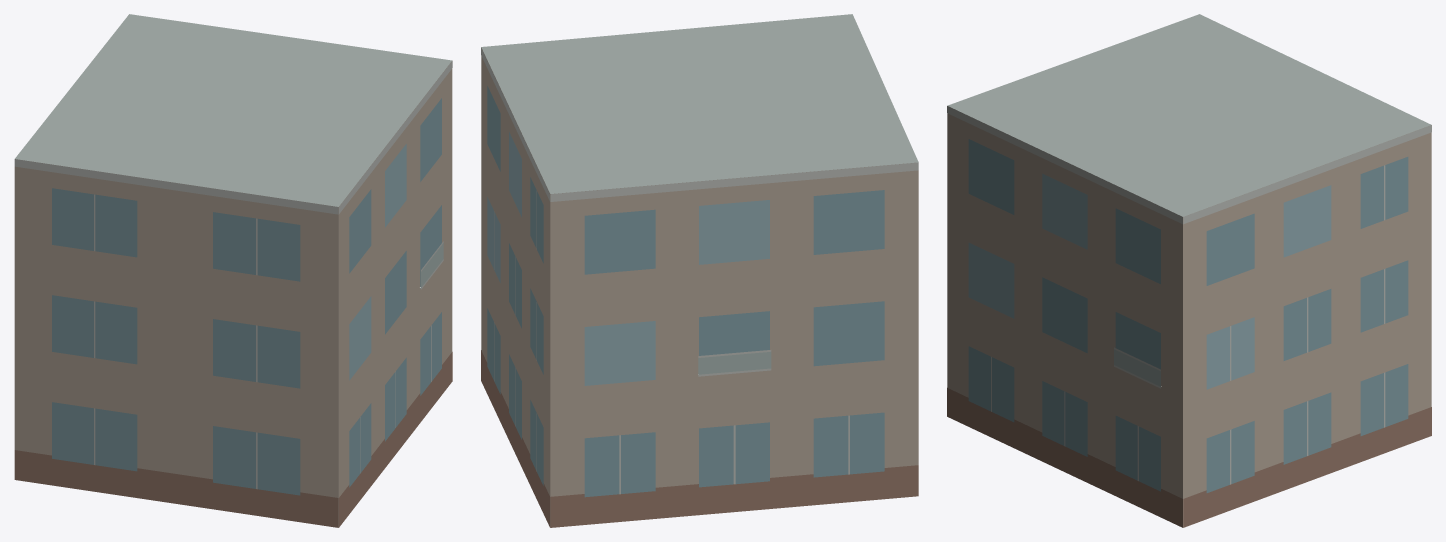
Rendered from survey-upis-32835192.glb.
3 views of the same model, side by side, from view 1: azimuth 30°, elevation 25°; view 2: azimuth 150°, elevation 25°; view 3: azimuth 270°, elevation 25° (orthographic). The views are drawn at different scales.
Parts seen in each view (by area): view 1: survey-upis-32835192.tmp; view 2: survey-upis-32835192.tmp; view 3: survey-upis-32835192.tmp.
Boxes of the visible parts, box(x1,y1,x2,y2) form: survey-upis-32835192.tmp: box(14, 14, 452, 527); survey-upis-32835192.tmp: box(481, 14, 918, 527); survey-upis-32835192.tmp: box(947, 14, 1431, 527).
Bounding box in the file's own units: 14.29 × 10.2 × 14.42.
